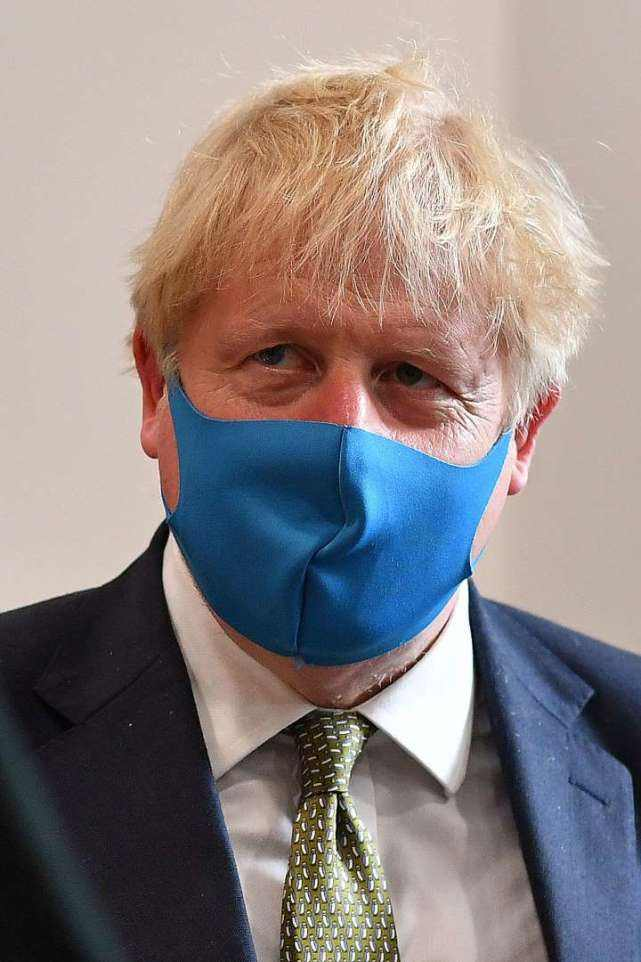mask: (161, 271, 514, 673)
